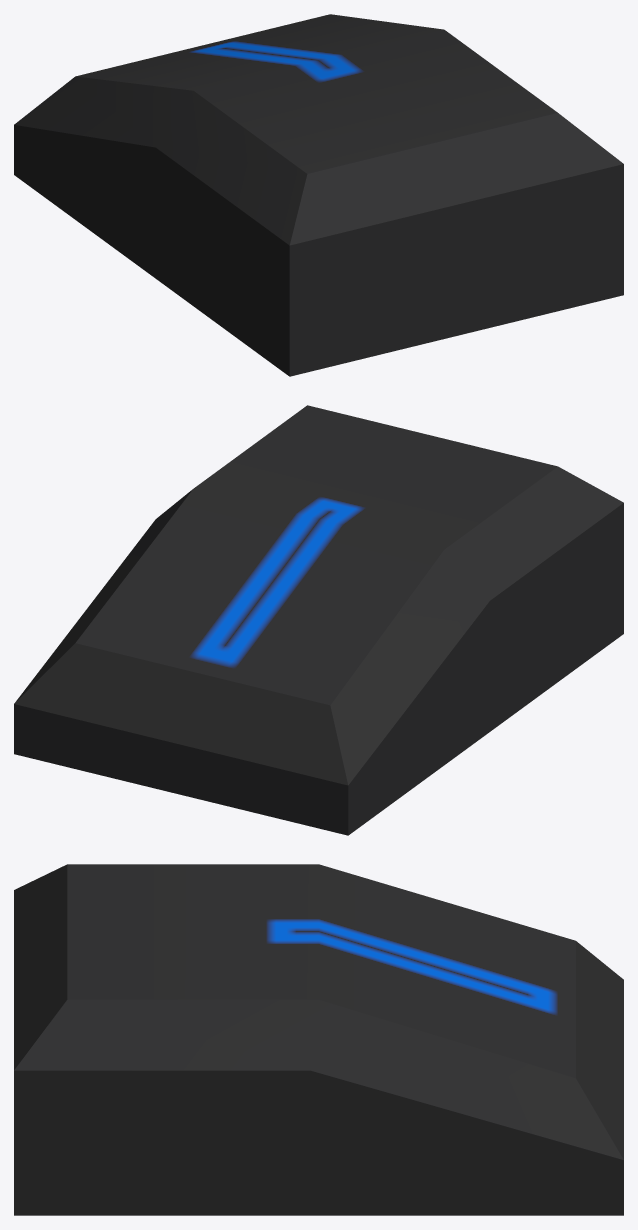
Rendered from mouse.glb.
The picture shows the model from 3 angles, top to bottom: view 1: azimuth 30°, elevation 25°; view 2: azimuth 150°, elevation 25°; view 3: azimuth 270°, elevation 25°; orthographic projection. The views are drawn at different scales.
Visible parts, largest first — view 1: Comp_Mouse; view 2: Comp_Mouse; view 3: Comp_Mouse.
Part boxes in pixels (x1=…): Comp_Mouse: x1=14, y1=14, x2=623, y2=376; Comp_Mouse: x1=14, y1=405, x2=623, y2=835; Comp_Mouse: x1=14, y1=864, x2=623, y2=1215.
Size of the model in its own units: 42 by 21 by 60.
1 material, 1 textured.
